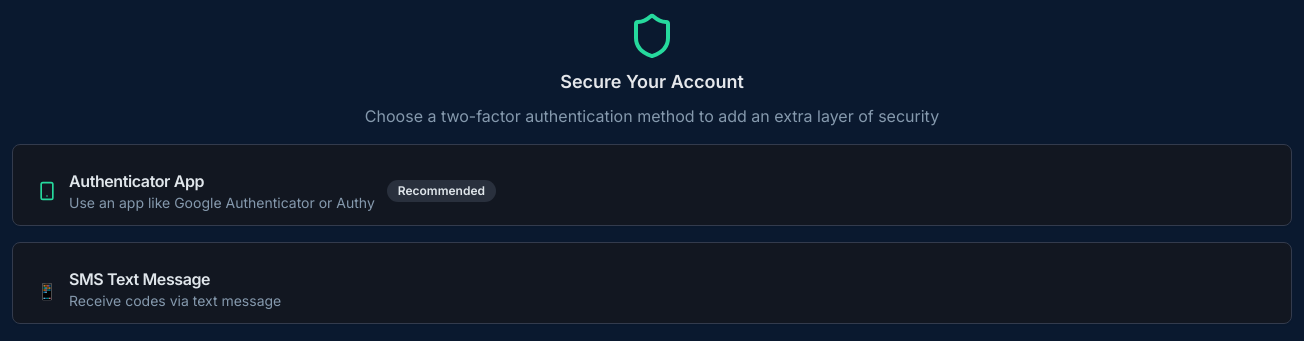
Test case: TwoFactorSetup › SMS Setup Flow › should validate phone number format
Click the text "SMS Text Message" at x=140, y=279, box [69,269,210,289]
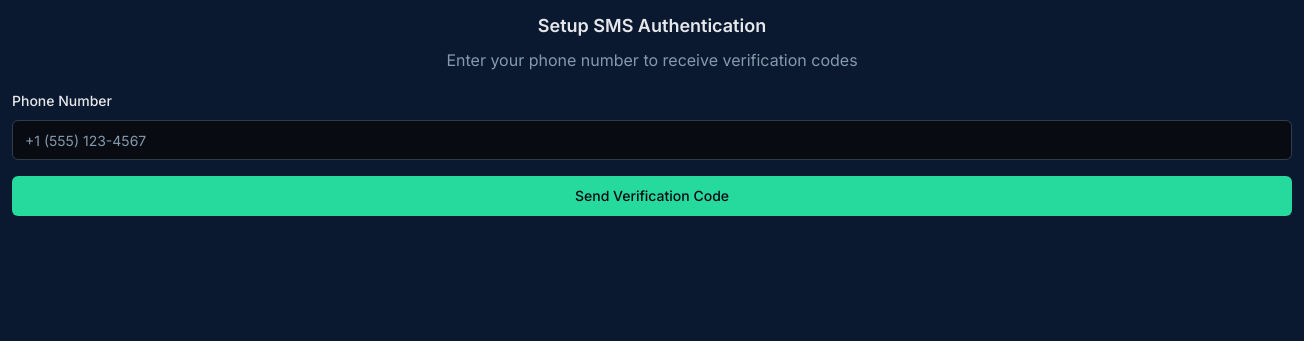
# Test invalid phone number
Type "invalid" into the field labelled "Phone Number" at x=652, y=140, box [12,120,1292,160]
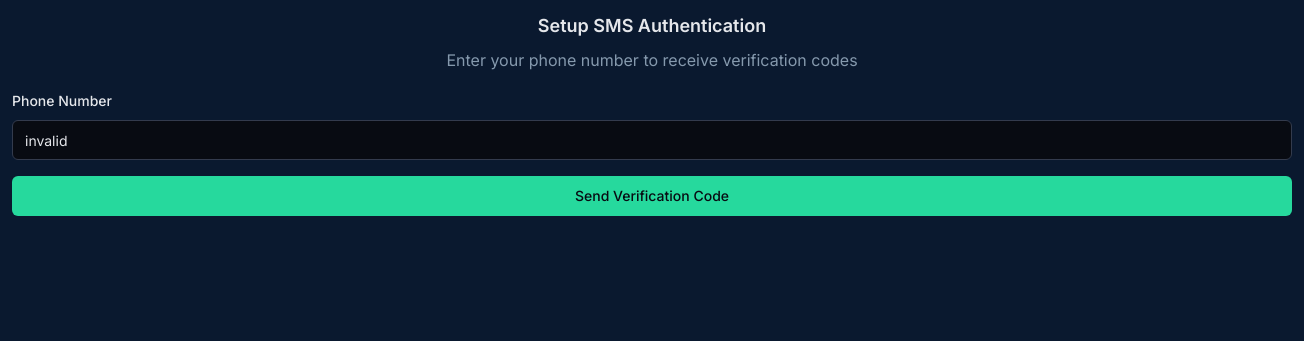
Click the button "Send Verification Code" at x=652, y=196, box [12,176,1292,216]
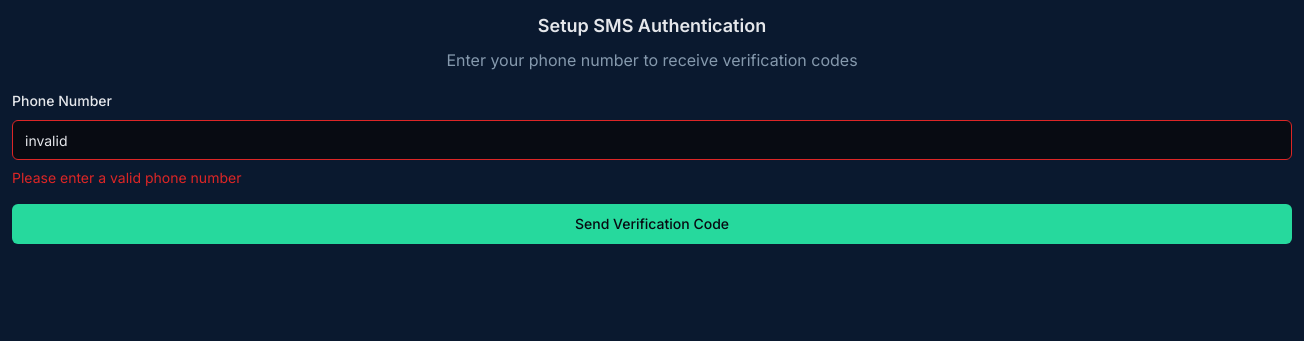
Expected: the text "Please enter a valid phone number" is shown, [12,169,241,186]
